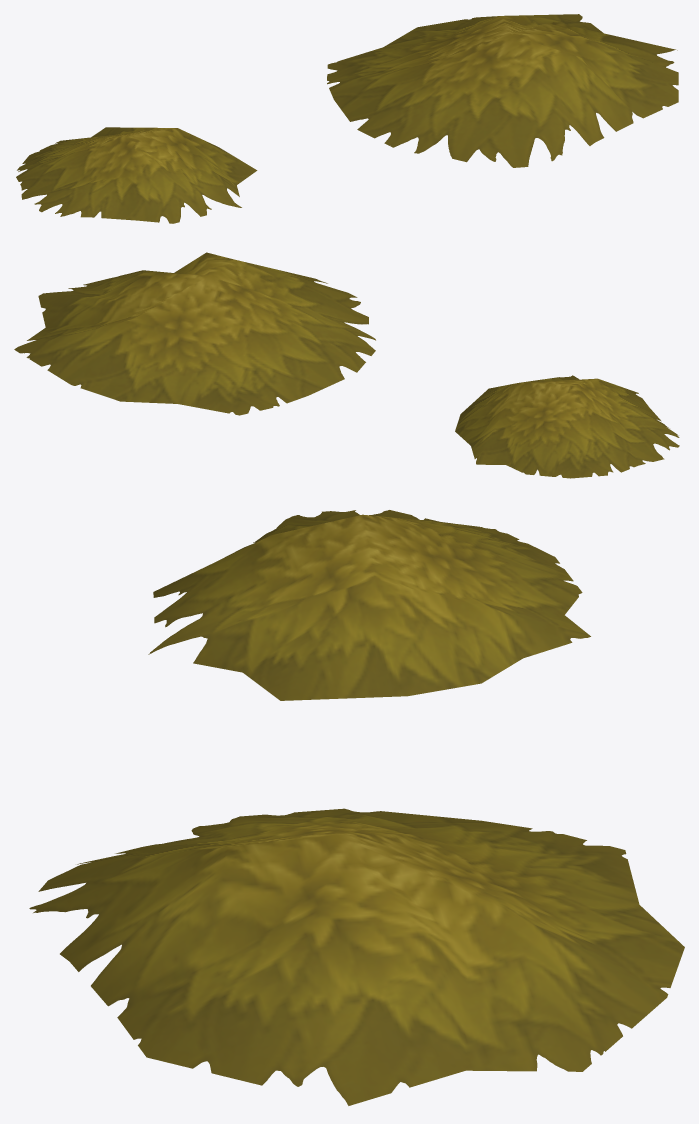
The model's file is Lief_Stack01.FBX.
3 views of the same model, one above another, from view 1: azimuth 30°, elevation 25°; view 2: azimuth 150°, elevation 25°; view 3: azimuth 270°, elevation 25° (orthographic). The views are drawn at different scales.
Visible parts, largest first — view 1: Cylinder001, Cylinder002; view 2: Cylinder001, Cylinder002; view 3: Cylinder001, Cylinder002.
Boxes of the visible parts, x1,y1,x2,y2 form: Cylinder001: [327, 14, 678, 167]; Cylinder002: [16, 127, 257, 223]; Cylinder001: [14, 252, 375, 415]; Cylinder002: [455, 375, 679, 478]; Cylinder001: [29, 808, 684, 1105]; Cylinder002: [148, 510, 590, 700].
Size of the model in its own units: 303 by 26.54 by 143.
Materials: 1 (1 with a texture image).
